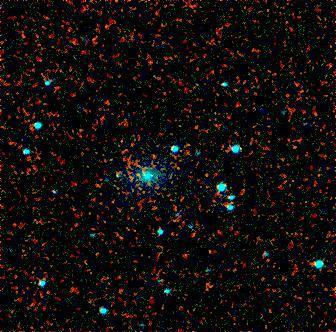star: (195, 234, 225, 264)
